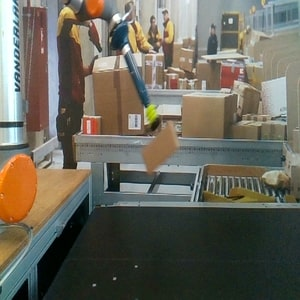box: (138, 119, 183, 176)
